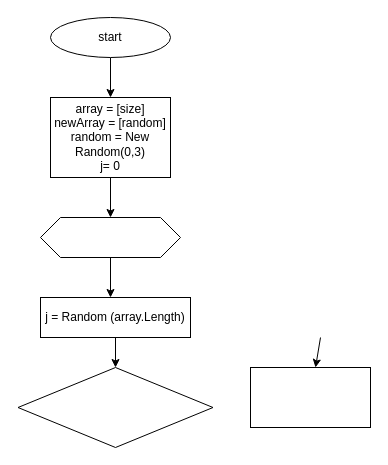
The diagram is 388 pixels wide and 465 high, and some of its shapes have lost their labels. Each missing label, with the box of its shape:
i = 0; i < size; i++: (40, 216, 180, 258)
newArray[j] = array[i]: (250, 366, 370, 428)
